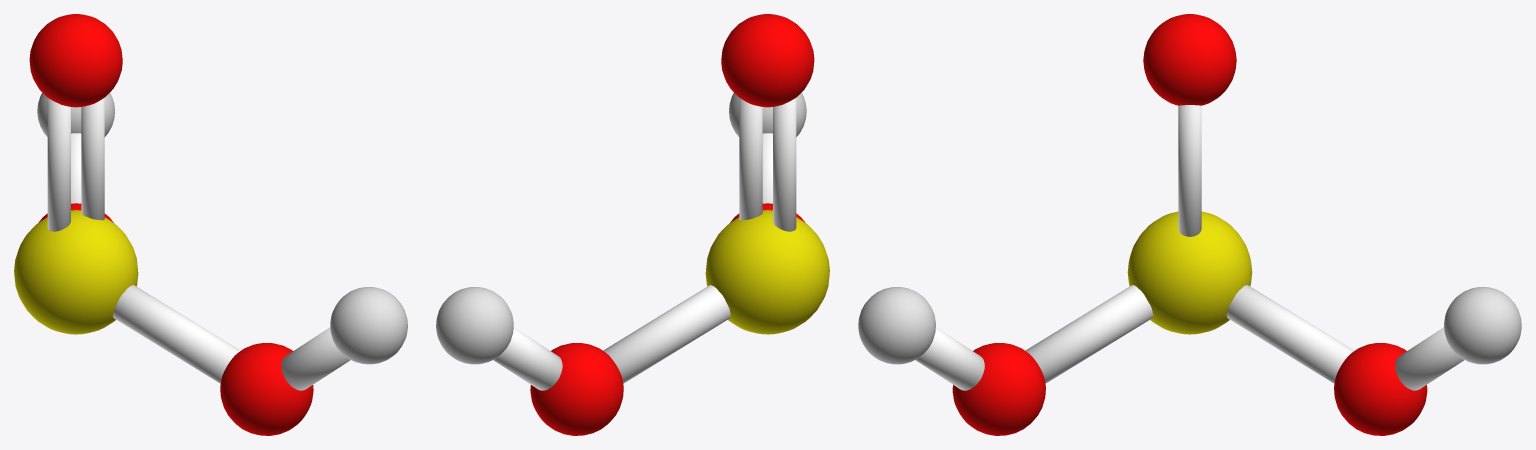
3 views of the same model, side by side, from view 1: azimuth 30°, elevation 25°; view 2: azimuth 150°, elevation 25°; view 3: azimuth 270°, elevation 25° (orthographic).
Visible parts, largest first — view 1: sulphur; view 2: sulphur; view 3: sulphur.
Part boxes in pixels (x1,y1,x2,y2): sulphur: (14, 14, 407, 435); sulphur: (436, 14, 829, 435); sulphur: (858, 14, 1521, 435).
Bounding box in the file's own units: 347 × 520 × 852.
